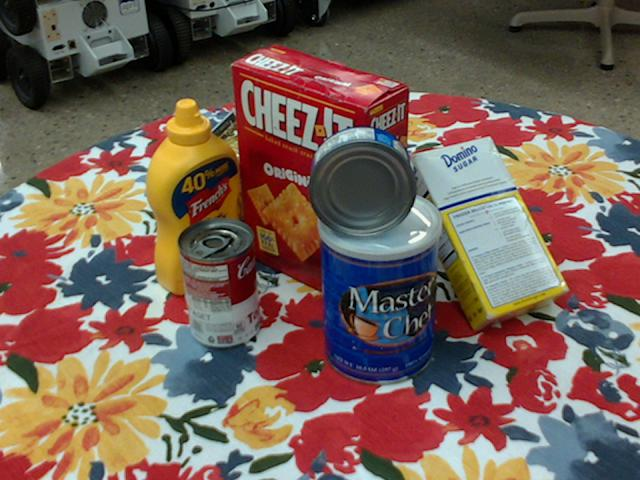cracker_box: (233, 46, 410, 308)
gelatin_box: (259, 134, 341, 206)
large_marker: (200, 90, 265, 150)
master_chef_can: (317, 190, 440, 388)
mug: (395, 148, 484, 251)
mustard_bottle: (145, 100, 245, 295)
potted_meat_can: (180, 134, 272, 241)
sugar_box: (400, 137, 570, 334)
tomato_soup_can: (176, 218, 259, 349)
tuna_fish_can: (310, 126, 418, 238)
